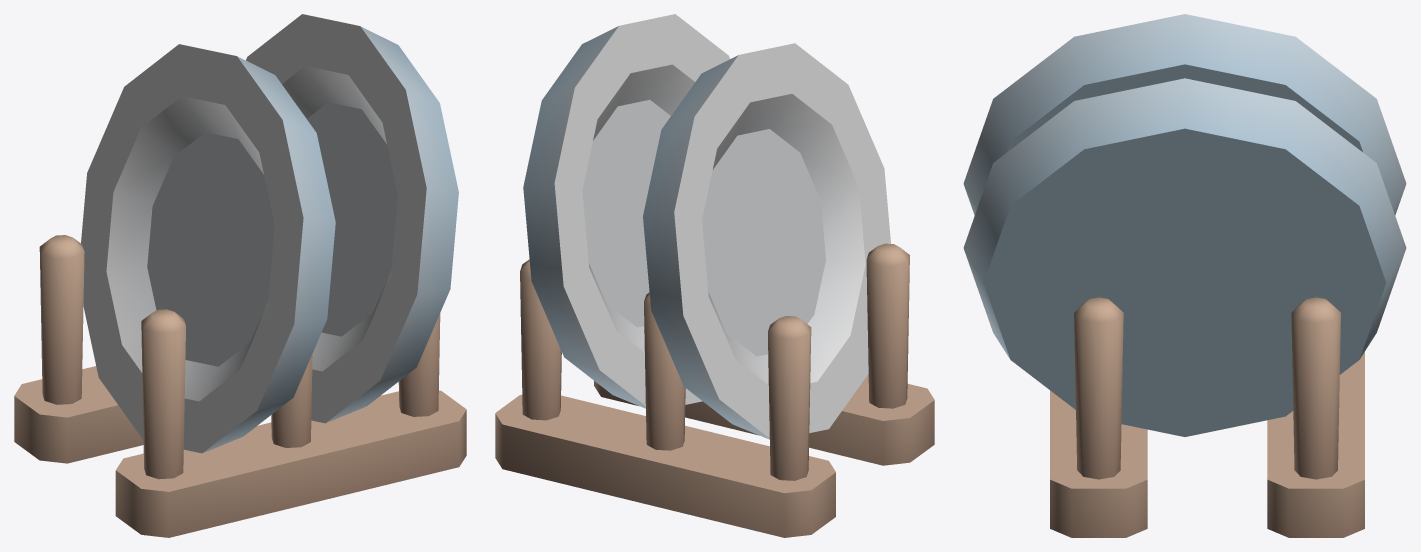
The model's file is dish-rack.glb.
3 renders of one model, left to right at view 1: azimuth 30°, elevation 25°; view 2: azimuth 150°, elevation 25°; view 3: azimuth 270°, elevation 25°, orthographic. The views are drawn at different scales.
Parts seen in each view (by area): view 1: dish-rack; view 2: dish-rack; view 3: dish-rack.
Boxes of the visible parts, x1,y1,x2,y2 form: dish-rack: (14, 14, 466, 537); dish-rack: (495, 14, 934, 537); dish-rack: (963, 14, 1406, 537).
Size of the model in its own units: 0.37 by 0.4384 by 0.4077.
